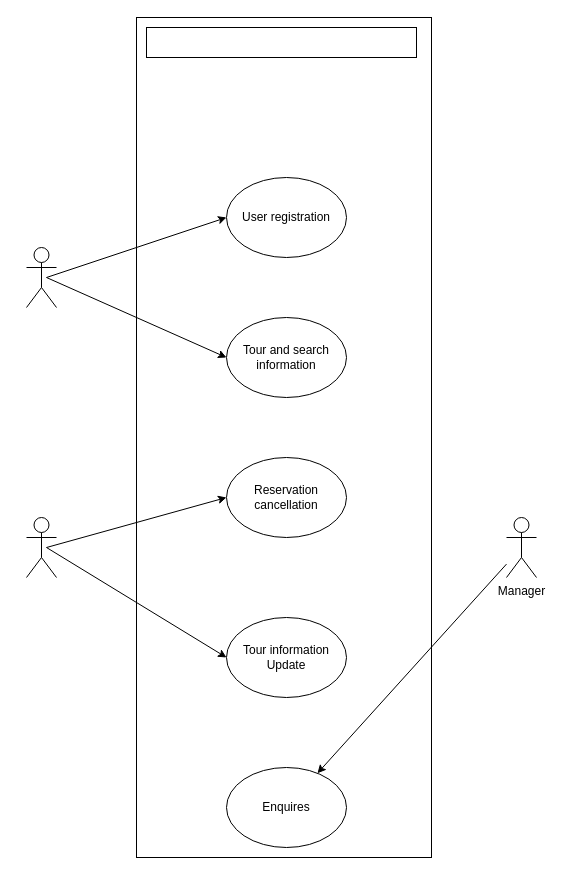
Image size: 562x875. Some labels were removed from this diagram. Here are the shapes that lost their labels. From the top down, the centre of each, then its label:
At (281,42): "Tour and Reservation system".
At (41,277): "Client".
At (41,547): "Assistant".
